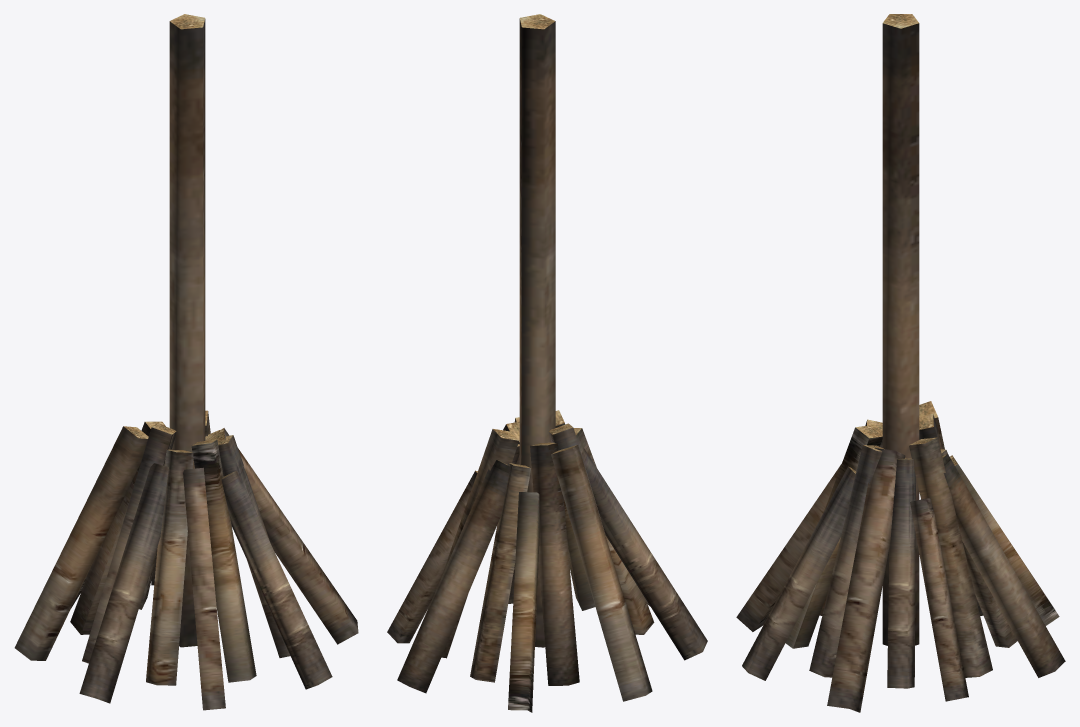
The model's file is building_torture_burning.glb.
3 views of the same model, side by side, from view 1: azimuth 30°, elevation 25°; view 2: azimuth 150°, elevation 25°; view 3: azimuth 270°, elevation 25° (orthographic).
Visible parts, largest first — view 1: building_torture_burning; view 2: building_torture_burning; view 3: building_torture_burning.
Part boxes in pixels (bbox=[...]): building_torture_burning: bbox=[14, 14, 358, 710]; building_torture_burning: bbox=[387, 14, 707, 712]; building_torture_burning: bbox=[736, 14, 1065, 712].
Bounding box in the file's own units: 1.71 × 3.6 × 1.7.
Materials: 2 (2 with a texture image).
